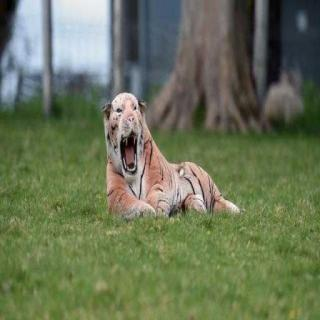Tiger: (95, 83, 238, 226)
